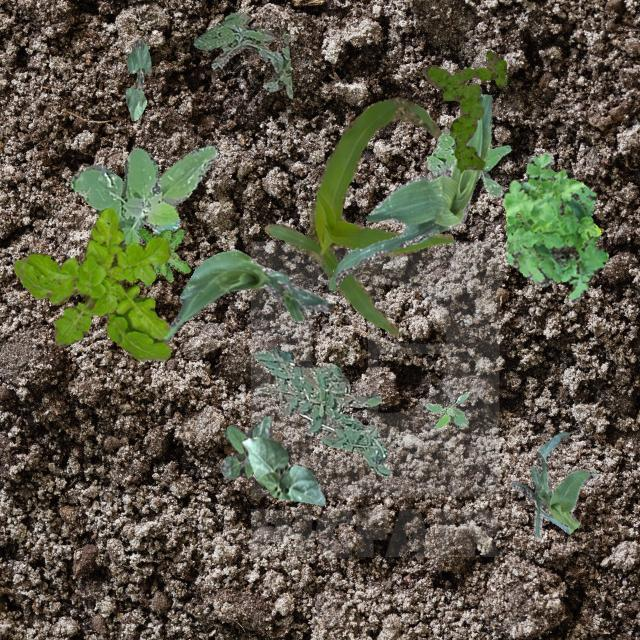crop: (264, 96, 454, 334), (324, 92, 492, 290), (162, 248, 332, 340), (509, 430, 596, 540), (240, 436, 324, 504), (124, 39, 150, 120)
weed: (12, 208, 170, 360), (252, 348, 390, 476), (502, 152, 608, 302), (70, 144, 216, 246), (422, 50, 506, 172), (194, 12, 292, 98), (422, 128, 510, 196), (218, 416, 272, 478), (137, 227, 190, 280), (424, 390, 468, 428)
